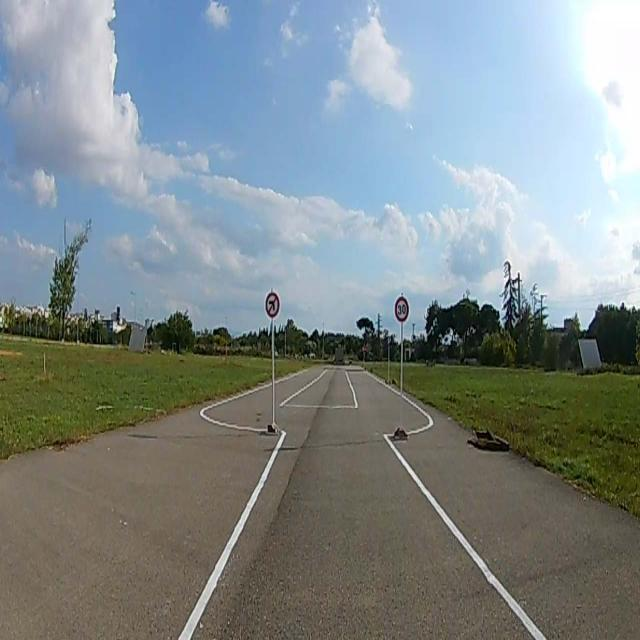30: (394, 298, 408, 322)
soladonulmez: (265, 294, 279, 315)
